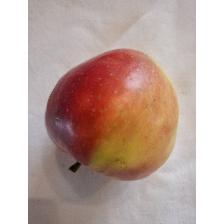Apfel: (43, 45, 181, 182)
